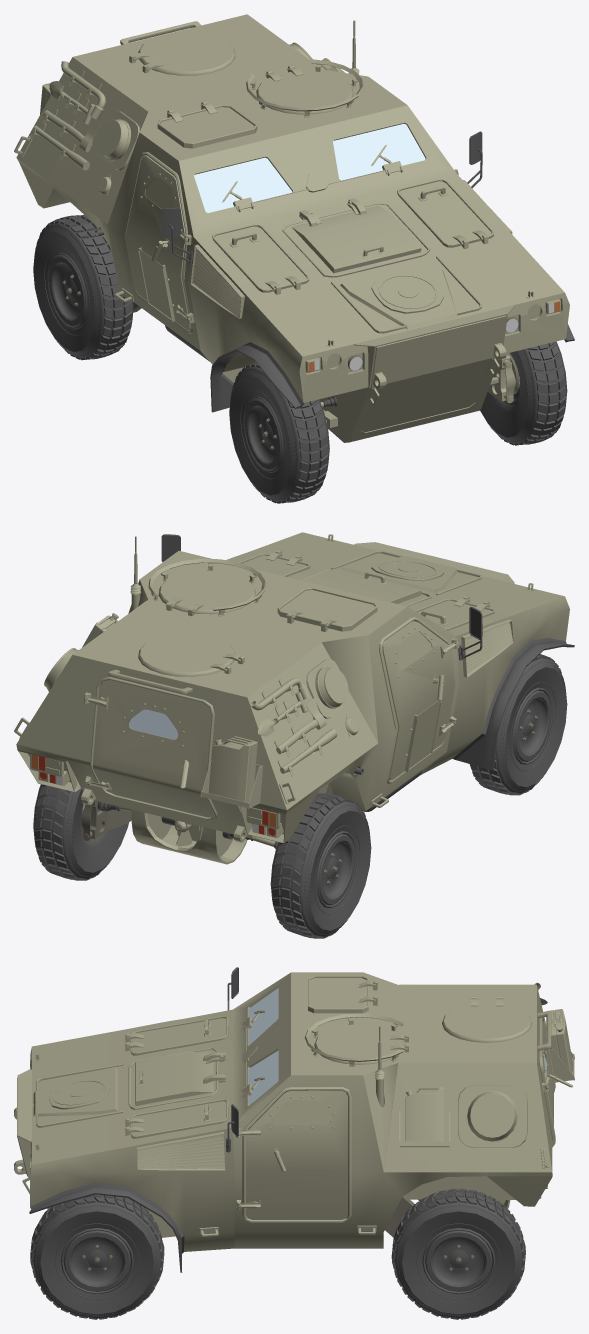
File: panhard_vbl.glb
3 renders of one model, top to bottom at view 1: azimuth 30°, elevation 25°; view 2: azimuth 150°, elevation 25°; view 3: azimuth 270°, elevation 25°, orthographic. The views are drawn at different scales.
Visible parts, largest first — view 1: Car7, Resina_Shina (×3), Peredovaia_Kapota, Front_Part1 (×2), polySurface61, Metal_Shiuna (×2), Front_Part_Middle_Inside, Front_Part1_Edge3, Top_Krishka1, Top_Krishka2, Top_Krishka3, Bolotniki (+12 smaller); view 2: Car7, Resina_Shina (×3), Doors_Back, polySurface61, Metal_Shiuna (×2), Top_Krishka1, Top_Krishka2, Bolotniki, Propeler_Around, Top_Krishka3, CanistraBack, Front_Part_Middle_Inside (+18 smaller); view 3: Car7, Resina_Shina (×2), Doors_Left3, Metal_Shiuna (×2), Front_Part1 (×2), Front_Part_Middle_Inside, Top_Krishka1, Rebci_Left, Top_Krishka2, Front_Part1_Edge3, Top_Krishka3, Canistra (+10 smaller).
Part boxes in pixels (<box>): Car7: <box>16,14,569,442</box>; Resina_Shina (×3): <box>33,214,567,503</box>; Peredovaia_Kapota: <box>354,305,514,387</box>; Front_Part1 (×2): <box>214,181,491,289</box>; polySurface61: <box>125,156,190,330</box>; Metal_Shiuna (×2): <box>44,246,285,479</box>; Front_Part_Middle_Inside: <box>292,205,421,273</box>; Front_Part1_Edge3: <box>331,256,481,333</box>; Top_Krishka1: <box>138,32,235,75</box>; Top_Krishka2: <box>256,71,353,114</box>; Top_Krishka3: <box>157,104,257,148</box>; Bolotniki: <box>210,324,574,412</box>; Car7: <box>16,532,569,838</box>; Resina_Shina (×3): <box>33,654,567,938</box>; Doors_Back: <box>93,680,213,817</box>; polySurface61: <box>382,621,454,780</box>; Metal_Shiuna (×2): <box>314,681,556,914</box>; Top_Krishka1: <box>138,633,235,676</box>; Top_Krishka2: <box>158,570,255,614</box>; Bolotniki: <box>452,638,574,770</box>; Propeler_Around: <box>131,809,247,864</box>; Top_Krishka3: <box>277,587,377,631</box>; CanistraBack: <box>208,736,257,802</box>; Front_Part_Middle_Inside: <box>303,569,421,603</box>; Car7: <box>29,972,574,1251</box>; Resina_Shina (×2): <box>30,1188,525,1319</box>; Doors_Left3: <box>246,1090,347,1219</box>; Metal_Shiuna (×2): <box>55,1223,501,1299</box>; Front_Part1 (×2): <box>132,1018,226,1135</box>; Front_Part_Middle_Inside: <box>135,1052,213,1105</box>; Top_Krishka1: <box>442,1002,532,1042</box>; Rebci_Left: <box>137,1131,225,1170</box>; Top_Krishka2: <box>314,1024,404,1064</box>; Front_Part1_Edge3: <box>33,1063,123,1127</box>; Top_Krishka3: <box>308,976,368,1013</box>; Canistra: <box>405,1087,444,1141</box>.
Bounding box in the file's own units: 19.16 × 17.61 × 31.5.
